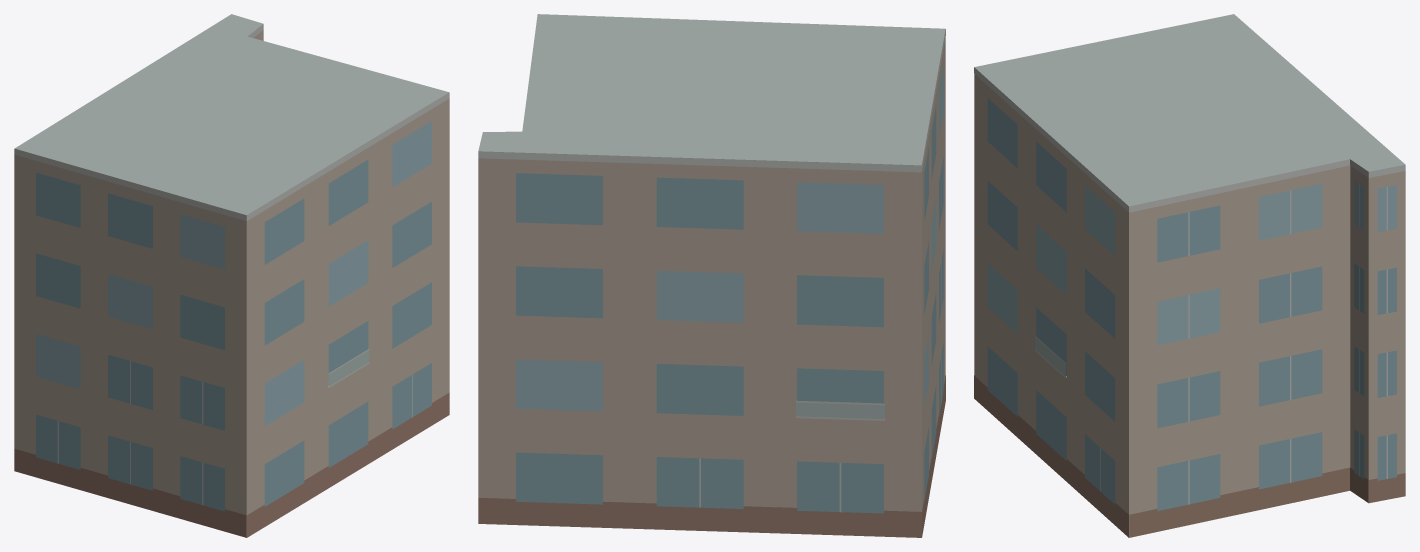
File: survey-upis-32733494.glb
3 renders of one model, left to right at view 1: azimuth 30°, elevation 25°; view 2: azimuth 150°, elevation 25°; view 3: azimuth 270°, elevation 25°, orthographic. The views are drawn at different scales.
Parts seen in each view (by area): view 1: survey-upis-32733494.tmp; view 2: survey-upis-32733494.tmp; view 3: survey-upis-32733494.tmp.
Part boxes in pixels (x1,y1,x2,y2): survey-upis-32733494.tmp: [14, 14, 449, 537]; survey-upis-32733494.tmp: [478, 14, 945, 537]; survey-upis-32733494.tmp: [974, 14, 1405, 537].
Size of the model in its own units: 16.2 by 13 by 15.35.
